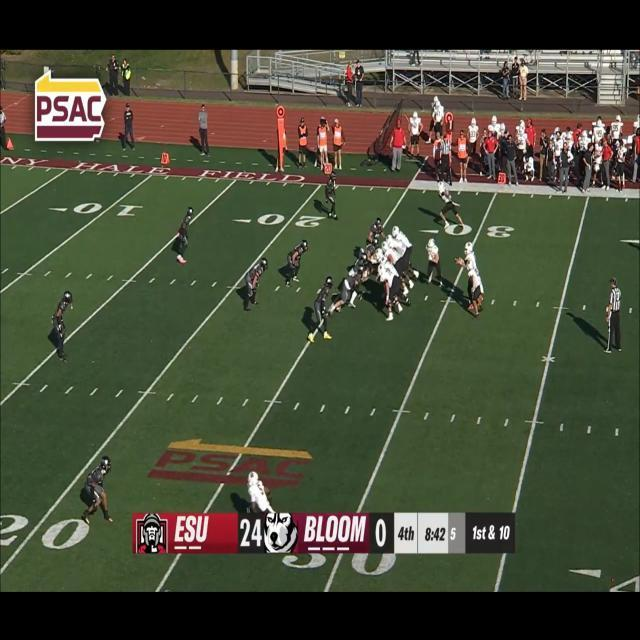football: (453, 256, 465, 266)
